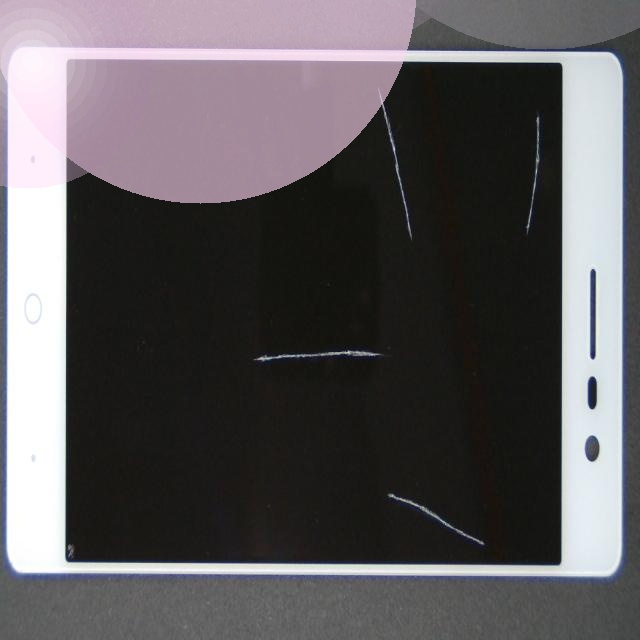scratch: (304, 311, 640, 640), (271, 171, 525, 509), (279, 0, 640, 224), (216, 57, 591, 136)
